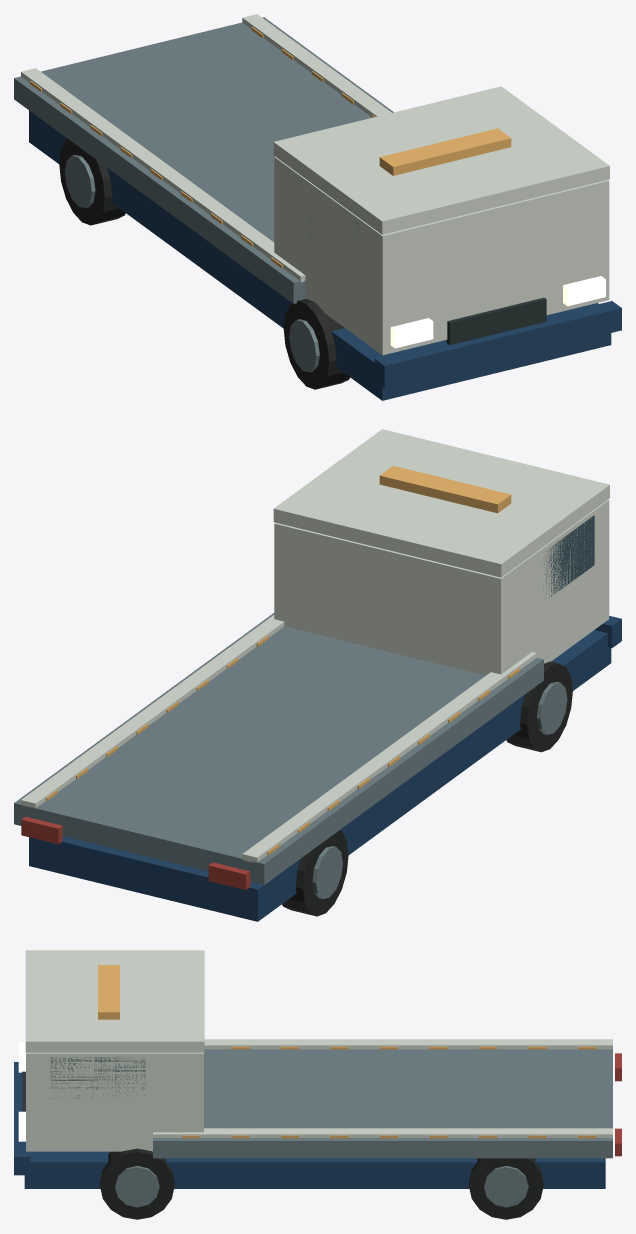
Rendered from PV_PoliceTow.fbx.
3 views of the same model, one above another, from view 1: azimuth 30°, elevation 25°; view 2: azimuth 150°, elevation 25°; view 3: azimuth 270°, elevation 25° (orthographic). The views are drawn at different scales.
Parts seen in each view (by area): view 1: PV_PoliceTow; view 2: PV_PoliceTow; view 3: PV_PoliceTow.
Part boxes in pixels (left/top/right/bottom): PV_PoliceTow: left=14, top=14, right=621, bottom=400; PV_PoliceTow: left=14, top=429, right=621, bottom=921; PV_PoliceTow: left=14, top=950, right=621, bottom=1219.
Size of the model in its own units: 236 by 199 by 602.
